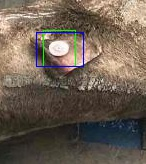text: (43, 30, 75, 66)
